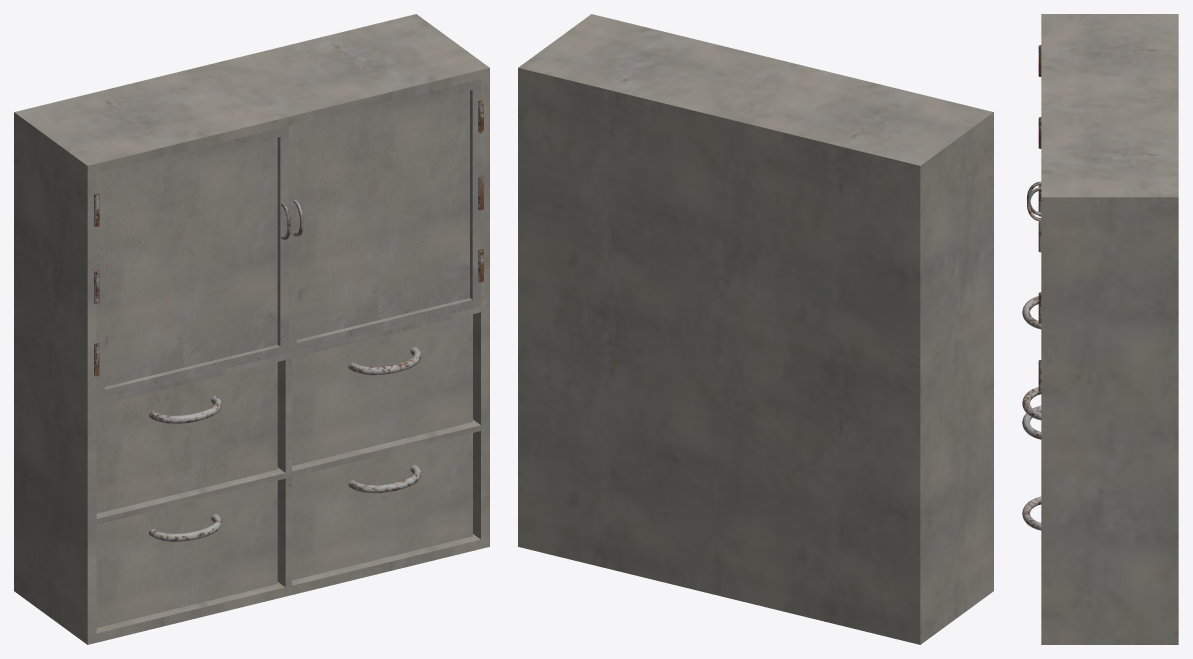
Rendered from Cupboard_A.fbx.
3 renders of one model, left to right at view 1: azimuth 30°, elevation 25°; view 2: azimuth 150°, elevation 25°; view 3: azimuth 270°, elevation 25°, orthographic. The views are drawn at different scales.
Parts seen in each view (by area): view 1: Cupboard_A; view 2: Cupboard_A; view 3: Cupboard_A.
Boxes of the visible parts, x1,y1,x2,y2 form: Cupboard_A: (14, 14, 489, 644); Cupboard_A: (518, 14, 993, 644); Cupboard_A: (1022, 14, 1178, 644).
Size of the model in its own units: 176 by 200 by 63.29.
7 materials, 7 textured.
